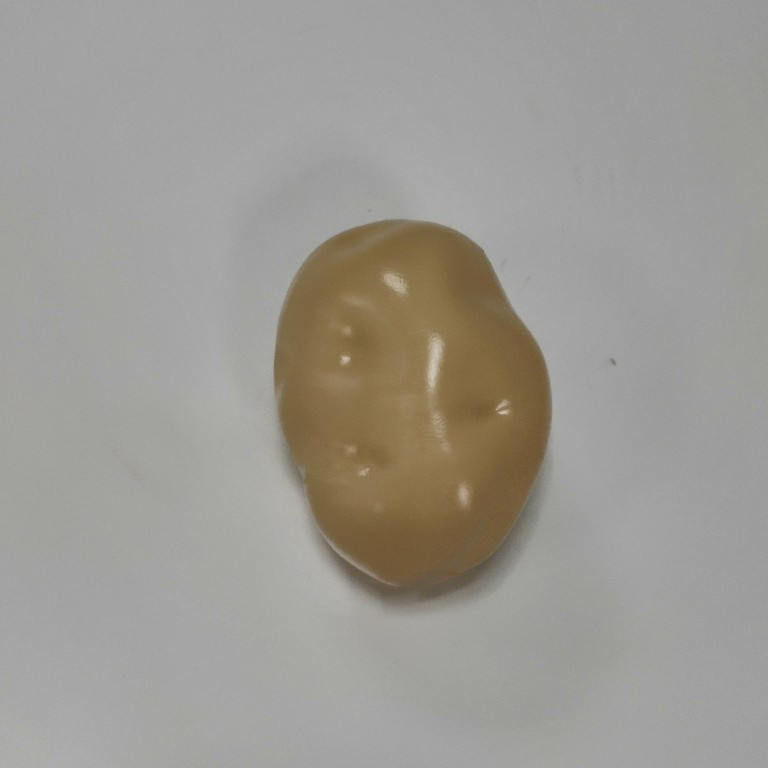fruit_potato: (265, 213, 558, 597)
